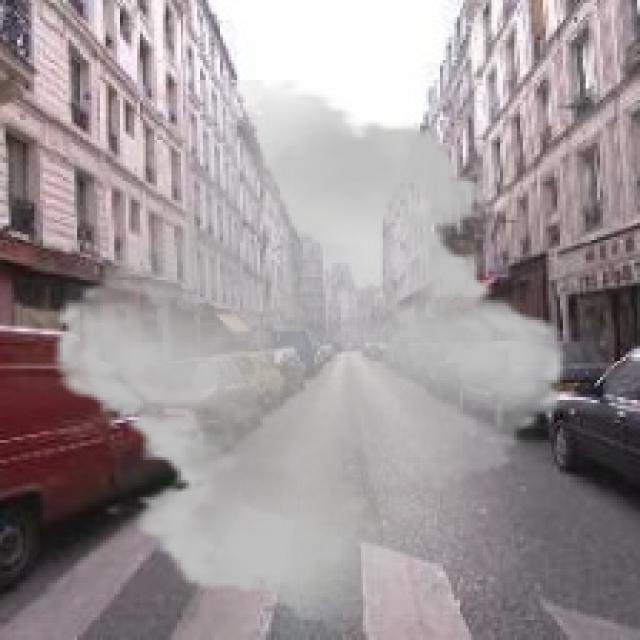smoke: (31, 80, 588, 634)
